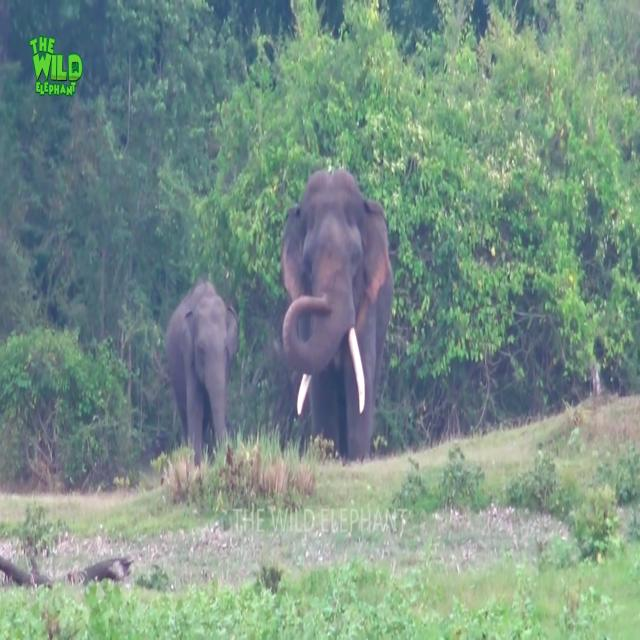Elephant: (280, 168, 394, 463), (164, 278, 239, 469)
